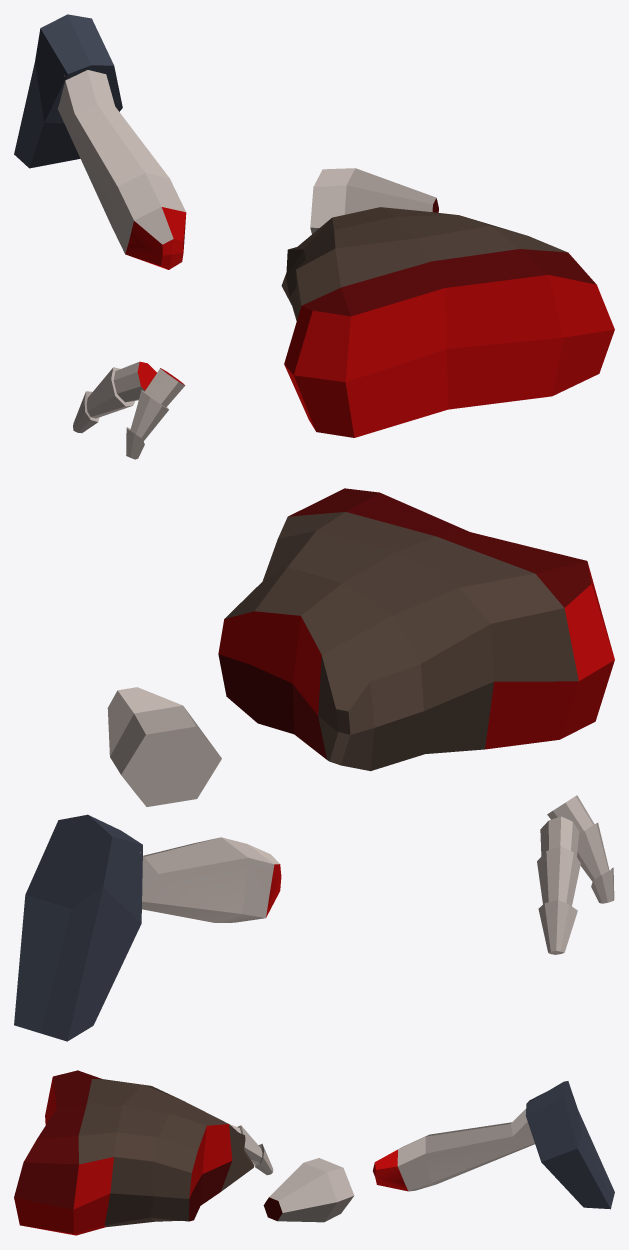
Rendered from deadguy04.fbx.
3 renders of one model, top to bottom at view 1: azimuth 30°, elevation 25°; view 2: azimuth 150°, elevation 25°; view 3: azimuth 270°, elevation 25°, orthographic. The views are drawn at different scales.
Visible parts, largest first — view 1: polySurface123; view 2: polySurface123; view 3: polySurface123.
Boxes of the visible parts, left/top/right/bottom form: polySurface123: left=14, top=14, right=614, bottom=459; polySurface123: left=14, top=488, right=614, bottom=1041; polySurface123: left=14, top=1070, right=614, bottom=1235.
Size of the model in its own units: 74.51 by 41.78 by 141.
